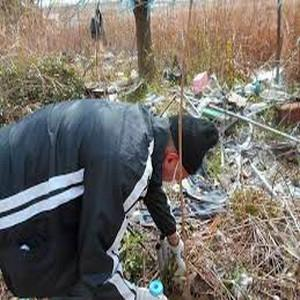Plastic: (201, 105, 232, 121)
